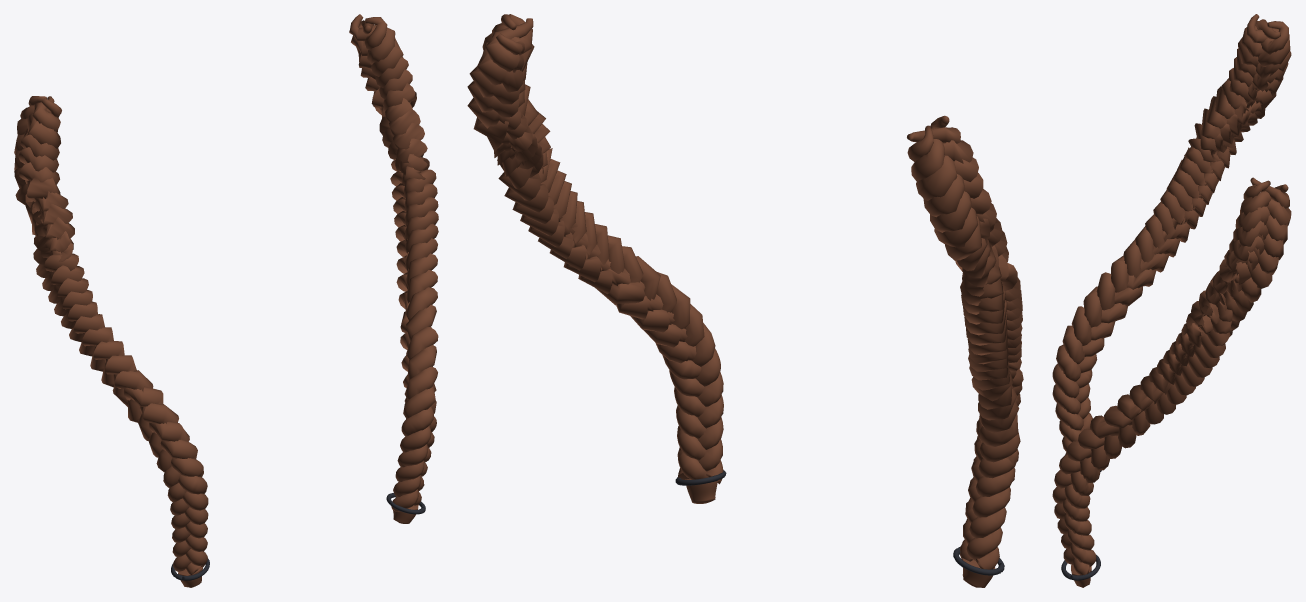
The model's file is twins-none-open-default.glb.
3 views of the same model, side by side, from view 1: azimuth 30°, elevation 25°; view 2: azimuth 150°, elevation 25°; view 3: azimuth 270°, elevation 25° (orthographic). The views are drawn at different scales.
Visible parts, largest first — view 1: 226 hairLengths / Hair / chestnut226, 226 hairLengths / Hair / ties226; view 2: 226 hairLengths / Hair / chestnut226, 226 hairLengths / Hair / ties226; view 3: 226 hairLengths / Hair / chestnut226, 226 hairLengths / Hair / ties226.
Part boxes in pixels (x1,y1,x2,y2): 226 hairLengths / Hair / chestnut226: (14, 14, 438, 587); 226 hairLengths / Hair / ties226: (171, 493, 425, 580); 226 hairLengths / Hair / chestnut226: (467, 14, 1023, 587); 226 hairLengths / Hair / ties226: (675, 470, 1004, 575); 226 hairLengths / Hair / chestnut226: (1052, 14, 1291, 587); 226 hairLengths / Hair / ties226: (1061, 470, 1101, 580).
Bounding box in the file's own units: 0.8712 × 0.9287 × 0.4504.
